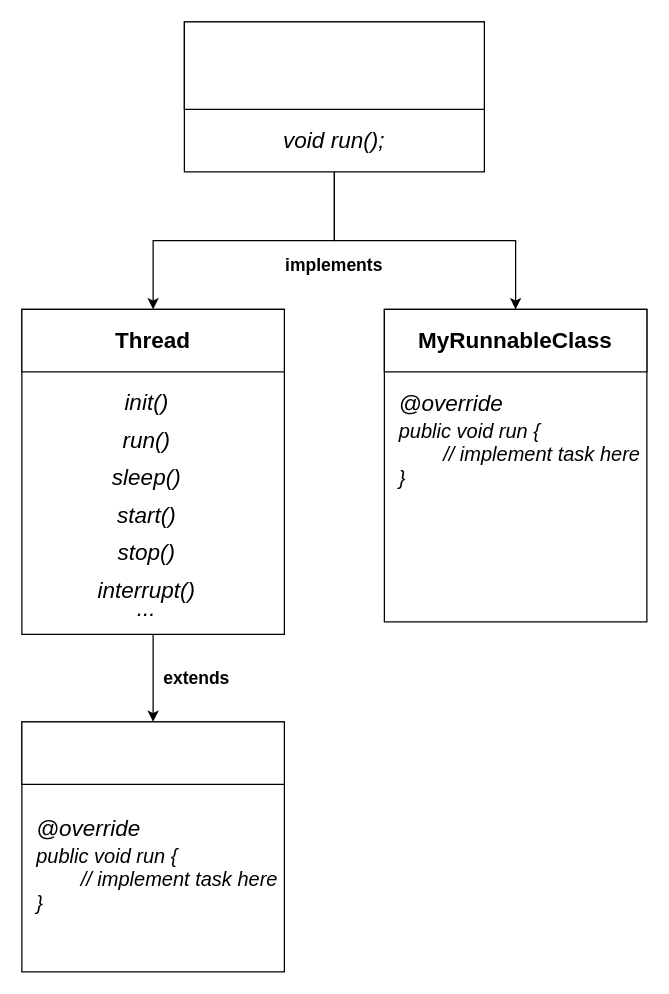
The diagram is 669 pixels wide and 994 high, and some of its shapes have lost their labels. Each missing label, with the centre of its shape:
MyThreadClass: the point at 152,752
Runnable: the point at 333,65
